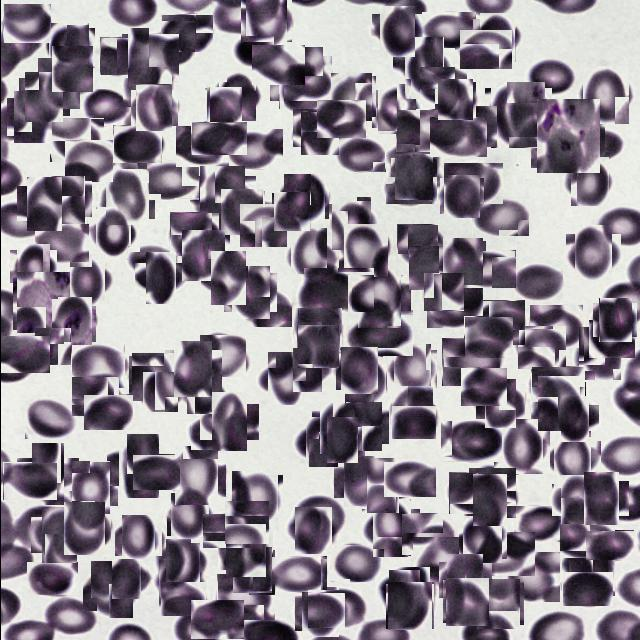red blood cell: (487, 85, 548, 145), (194, 170, 250, 227), (344, 310, 412, 356), (304, 268, 374, 312), (352, 270, 406, 324), (580, 68, 632, 122), (412, 537, 474, 582), (170, 449, 222, 502), (274, 52, 326, 105), (442, 338, 499, 386), (439, 420, 504, 462), (472, 532, 534, 576), (112, 440, 164, 492), (505, 552, 559, 602), (216, 574, 274, 620), (398, 42, 449, 94), (124, 30, 175, 81), (298, 274, 351, 322), (86, 564, 136, 614), (230, 473, 280, 523), (101, 172, 151, 222), (136, 160, 198, 200), (15, 506, 70, 551), (497, 422, 546, 472), (443, 163, 502, 204), (396, 109, 452, 152), (533, 379, 582, 428), (340, 226, 390, 274), (396, 224, 448, 270), (50, 118, 104, 162), (528, 304, 582, 348), (72, 344, 126, 388), (408, 246, 462, 290), (294, 494, 347, 538), (548, 436, 596, 484), (366, 504, 414, 552), (575, 329, 623, 377), (179, 232, 227, 280), (384, 570, 432, 618), (220, 526, 268, 574), (225, 129, 282, 169), (429, 117, 486, 157), (564, 552, 611, 600), (34, 60, 82, 107), (23, 451, 71, 498), (205, 398, 252, 446), (59, 506, 108, 552), (307, 590, 366, 628), (426, 288, 482, 328), (400, 514, 453, 556), (471, 197, 528, 236), (474, 580, 521, 627), (475, 300, 524, 345), (175, 126, 228, 167), (569, 230, 616, 276), (169, 346, 216, 392), (516, 325, 565, 369), (169, 212, 218, 256), (24, 398, 76, 439), (267, 556, 326, 592), (251, 45, 304, 85), (458, 29, 511, 69), (342, 358, 388, 404), (68, 464, 114, 510), (388, 386, 434, 432), (296, 105, 342, 151), (286, 233, 332, 279), (294, 306, 340, 352), (280, 176, 326, 222), (10, 94, 56, 140), (148, 21, 194, 67), (226, 270, 272, 316), (35, 512, 81, 558), (386, 584, 432, 630), (238, 203, 286, 247), (460, 250, 515, 288), (122, 67, 174, 107), (328, 201, 373, 247), (130, 354, 175, 400), (46, 25, 91, 71), (262, 356, 308, 401), (444, 578, 489, 624), (43, 598, 96, 637), (190, 600, 243, 639), (463, 316, 512, 358), (34, 224, 88, 262), (421, 12, 475, 50), (2, 462, 56, 500), (328, 74, 373, 119), (156, 560, 201, 605), (21, 181, 66, 226), (374, 86, 418, 132), (218, 190, 264, 234), (242, 0, 288, 44), (204, 256, 250, 300), (64, 140, 112, 182), (558, 522, 614, 558), (21, 75, 66, 119), (442, 558, 487, 602), (579, 476, 623, 521), (439, 240, 484, 284), (315, 406, 359, 451), (223, 500, 268, 544), (239, 289, 291, 327), (160, 14, 212, 52), (530, 366, 584, 402), (329, 544, 380, 582), (418, 66, 469, 104), (297, 590, 341, 634), (90, 212, 134, 256), (389, 347, 433, 391), (64, 258, 108, 302), (567, 159, 611, 203), (214, 74, 258, 118), (360, 463, 404, 507), (199, 335, 245, 377), (384, 144, 439, 179), (70, 376, 118, 416), (2, 3, 50, 43), (190, 122, 246, 156), (461, 518, 504, 562), (80, 89, 131, 126), (51, 46, 92, 92), (333, 136, 385, 172), (467, 467, 515, 506), (513, 261, 562, 299), (112, 125, 161, 163), (316, 100, 365, 138), (375, 11, 418, 54), (230, 548, 272, 592), (342, 404, 384, 448), (468, 478, 510, 522), (451, 106, 496, 147), (513, 506, 564, 542), (525, 59, 576, 95), (383, 462, 435, 497), (0, 336, 49, 373), (476, 16, 518, 59), (45, 178, 88, 220), (448, 472, 491, 514), (292, 509, 334, 552), (82, 394, 132, 430), (168, 496, 210, 538), (338, 461, 380, 503), (132, 87, 174, 129), (392, 156, 434, 198), (160, 542, 202, 584), (300, 422, 342, 464), (296, 326, 338, 368), (338, 350, 380, 392), (588, 320, 634, 358), (460, 368, 506, 406), (131, 454, 179, 490), (201, 513, 250, 548), (562, 572, 612, 606), (26, 562, 77, 595), (140, 258, 182, 298), (118, 519, 158, 559), (12, 246, 52, 286), (480, 384, 520, 424), (556, 480, 596, 520), (441, 176, 481, 216), (424, 272, 464, 312), (594, 301, 634, 340), (322, 420, 361, 460), (390, 405, 435, 439), (160, 582, 205, 616), (436, 80, 474, 120), (283, 76, 325, 112), (190, 416, 234, 450), (584, 530, 633, 560), (384, 176, 436, 204), (99, 37, 137, 75), (184, 375, 222, 413), (556, 400, 594, 438), (140, 373, 178, 411), (272, 192, 310, 230), (127, 246, 172, 277), (33, 328, 70, 365), (288, 351, 325, 388), (204, 88, 242, 124), (108, 561, 143, 596), (233, 36, 273, 64)
trophozoite: (532, 101, 602, 170), (14, 274, 72, 332), (49, 300, 93, 344)
